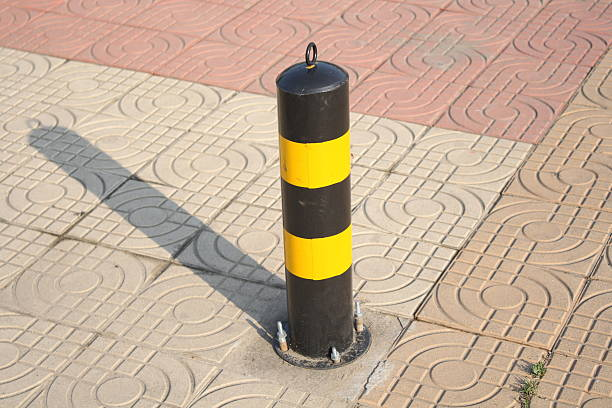bollard: (261, 32, 378, 370)
